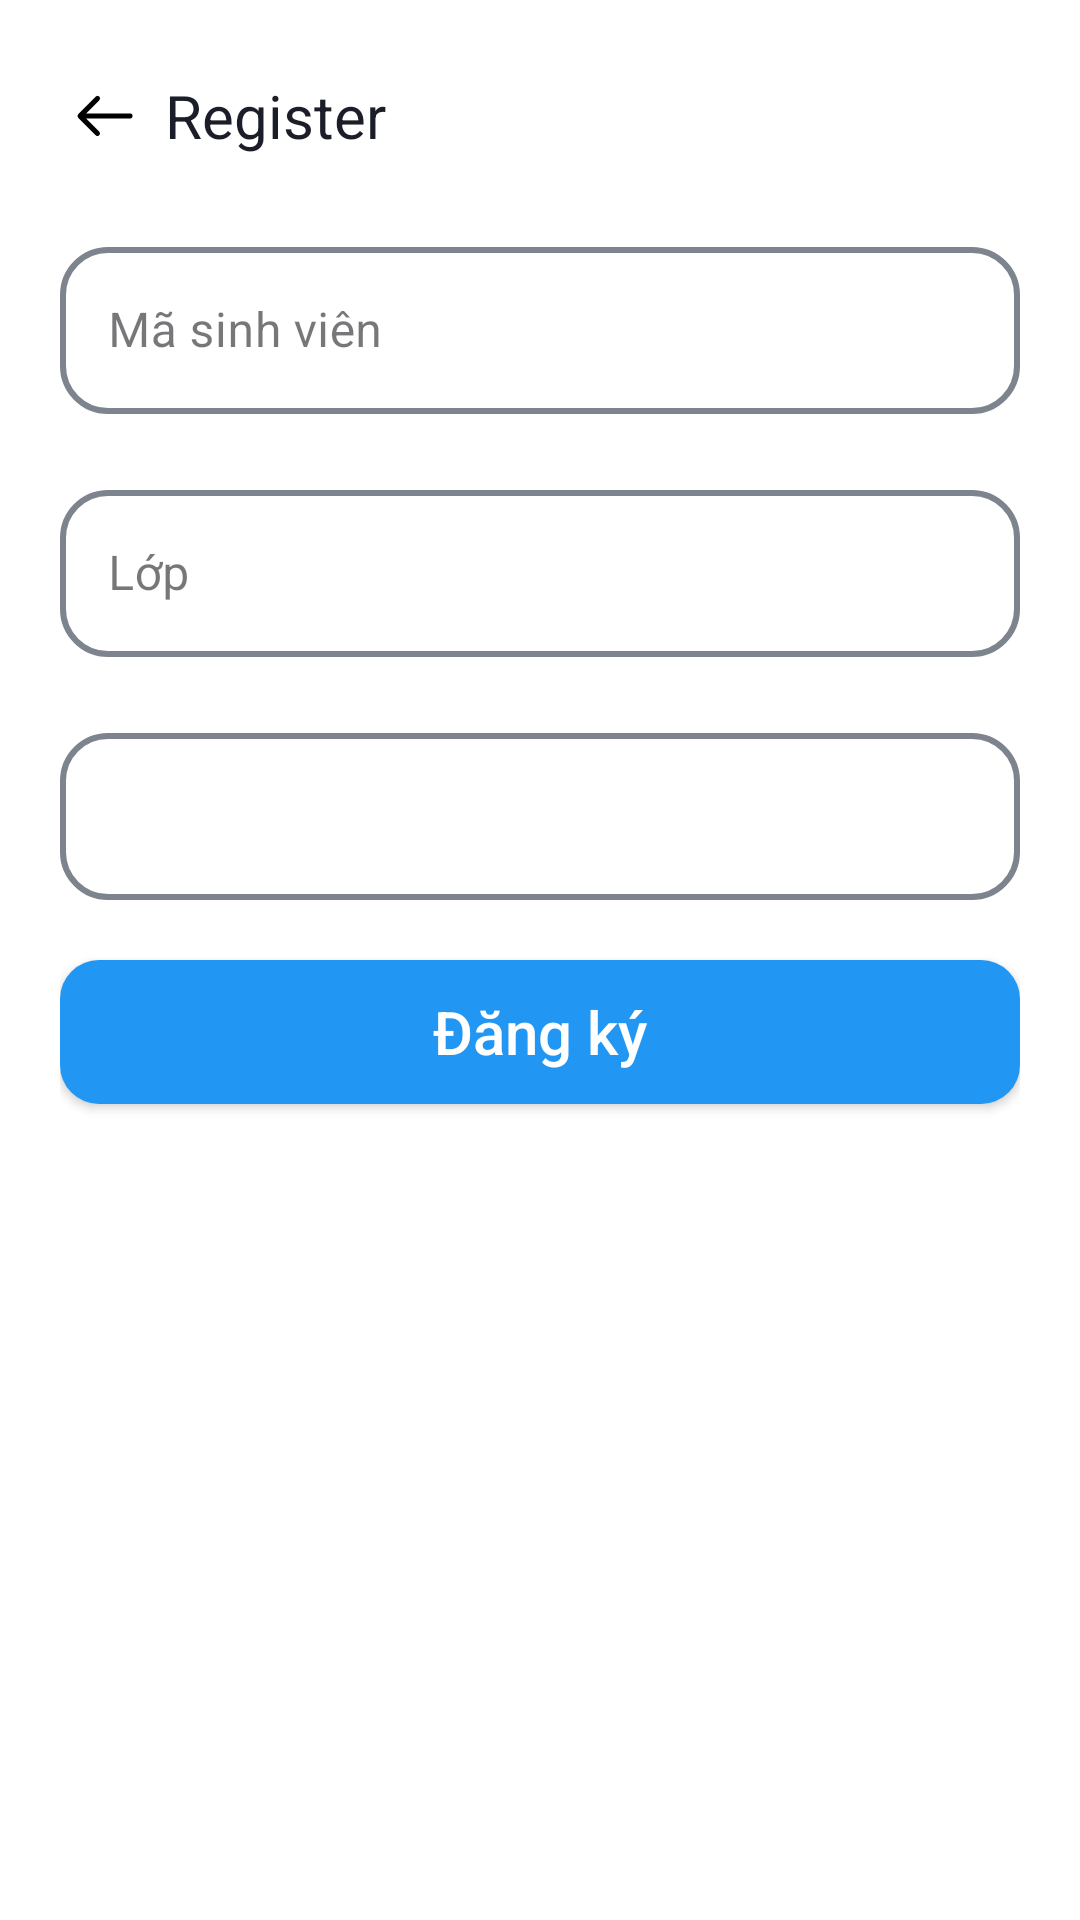

Where icons sit on this 1080px×1920px app screen, as bbox=[x1, y1, x2, y2]:
back: bbox=[77, 95, 133, 136]
